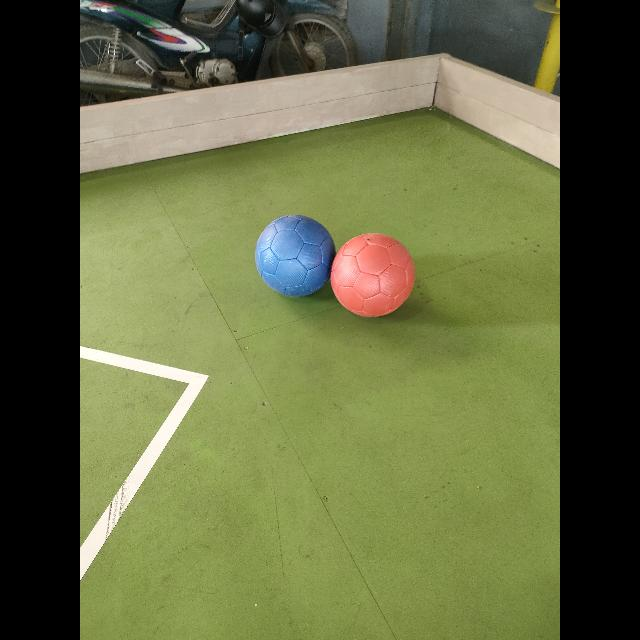B: (255, 215, 335, 296)
R: (330, 234, 415, 318)
